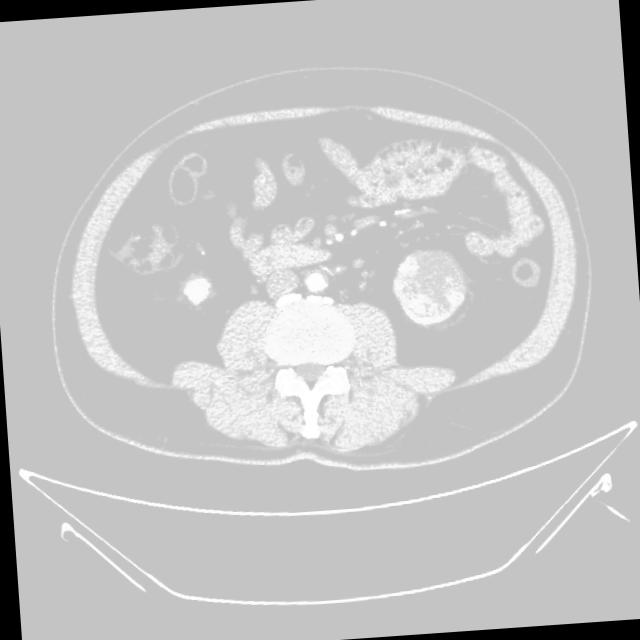TUMOR: (318, 206, 494, 345)
